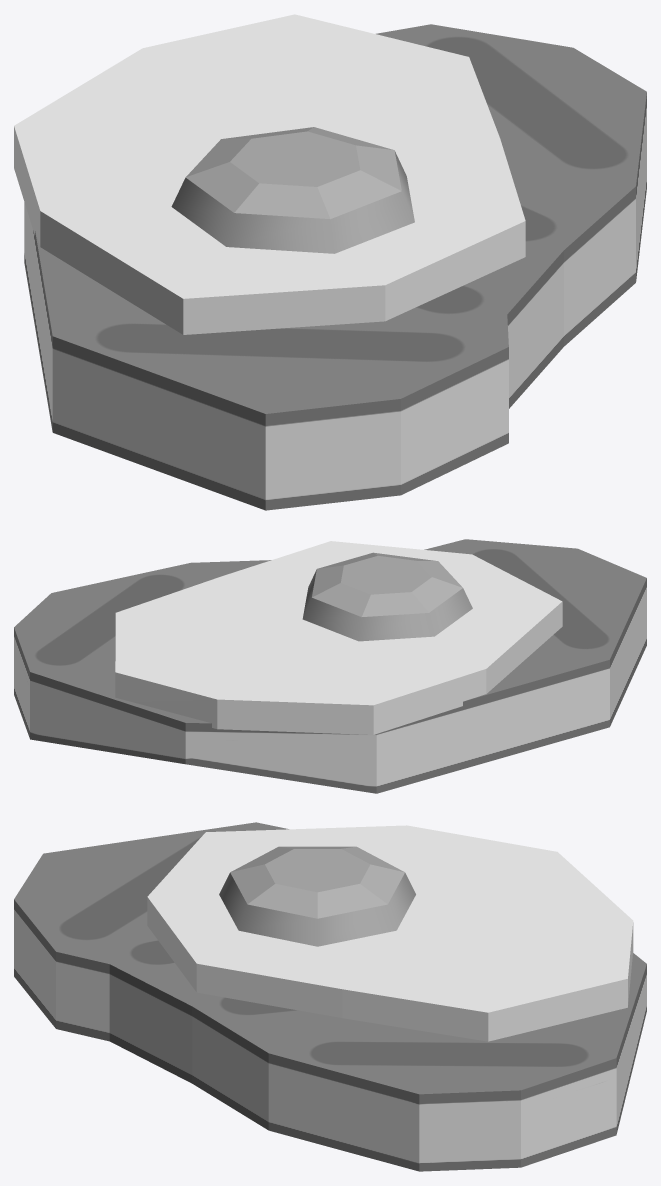
The model's file is Egg + Steak.FBX.
3 views of the same model, one above another, from view 1: azimuth 30°, elevation 25°; view 2: azimuth 150°, elevation 25°; view 3: azimuth 270°, elevation 25° (orthographic). The views are drawn at different scales.
Parts seen in each view (by area): view 1: Egg, Beef; view 2: Egg, Beef; view 3: Beef, Egg.
Part boxes in pixels (x1=…): Egg: x1=14, y1=14, x2=525, y2=334; Beef: x1=24, y1=24, x2=646, y2=510; Egg: x1=115, y1=541, x2=562, y2=734; Beef: x1=14, y1=539, x2=646, y2=793; Beef: x1=14, y1=822, x2=646, y2=1171; Egg: x1=147, y1=825, x2=633, y2=1041.
Size of the model in its own units: 50.69 by 12.23 by 49.85.
